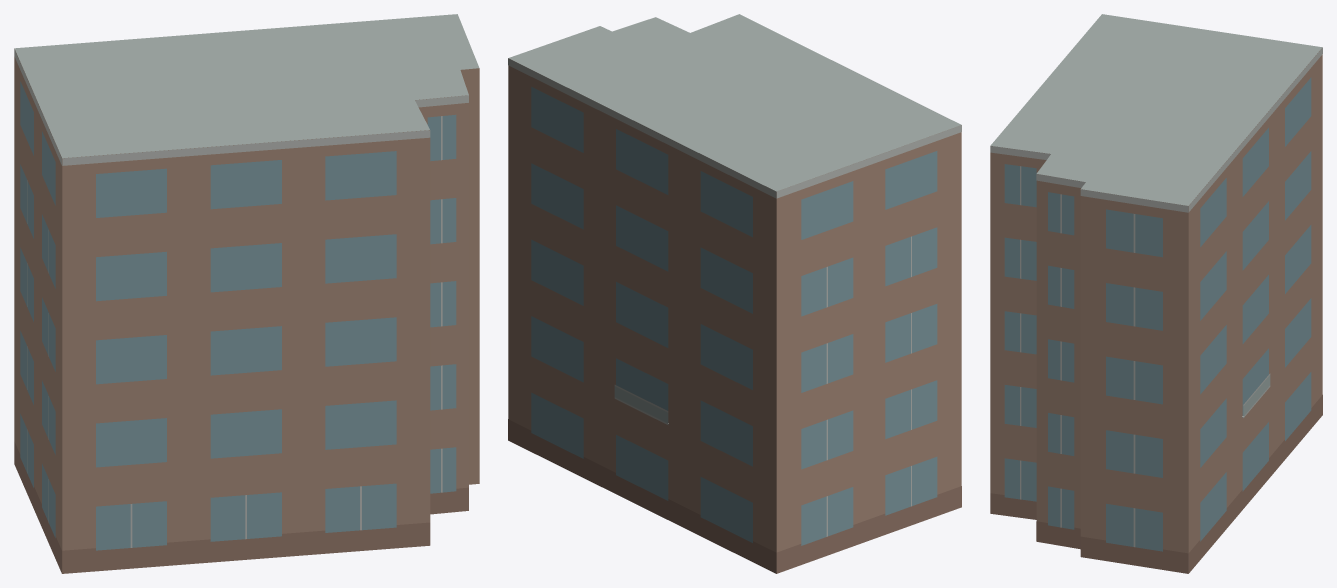
File: survey-upis-32972983.glb
3 renders of one model, left to right at view 1: azimuth 30°, elevation 25°; view 2: azimuth 150°, elevation 25°; view 3: azimuth 270°, elevation 25°, orthographic. The views are drawn at different scales.
Parts seen in each view (by area): view 1: survey-upis-32972983.tmp; view 2: survey-upis-32972983.tmp; view 3: survey-upis-32972983.tmp.
Boxes of the visible parts, x1=… form: survey-upis-32972983.tmp: x1=14, y1=14, x2=479, y2=573; survey-upis-32972983.tmp: x1=508, y1=14, x2=961, y2=573; survey-upis-32972983.tmp: x1=990, y1=14, x2=1322, y2=573.
Size of the model in its own units: 14.78 by 13.2 by 10.82.
